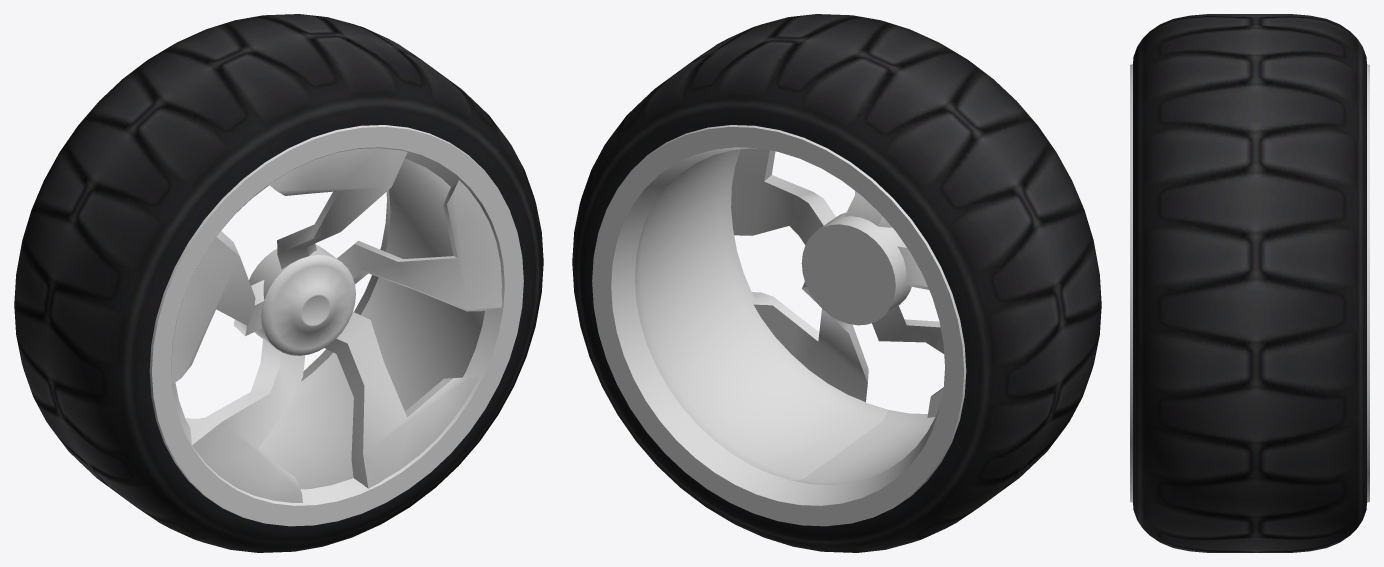
The model's file is wheel_chakram.glb.
The picture shows the model from 3 angles, left to right: view 1: azimuth 30°, elevation 25°; view 2: azimuth 150°, elevation 25°; view 3: azimuth 270°, elevation 25°; orthographic projection.
Visible parts, largest first — view 1: tire, rim; view 2: tire, rim; view 3: tire, rim.
Boxes of the visible parts, left/top/right/bottom form: tire: left=14, top=14, right=543, bottom=552; rim: left=149, top=125, right=523, bottom=526; tire: left=572, top=14, right=1101, bottom=552; rim: left=592, top=125, right=966, bottom=526; tire: left=1133, top=14, right=1366, bottom=552; rim: left=1130, top=64, right=1369, bottom=502.
Size of the model in its own units: 32.43 by 32.43 by 14.41.
Materials: 2 (1 with a texture image).
